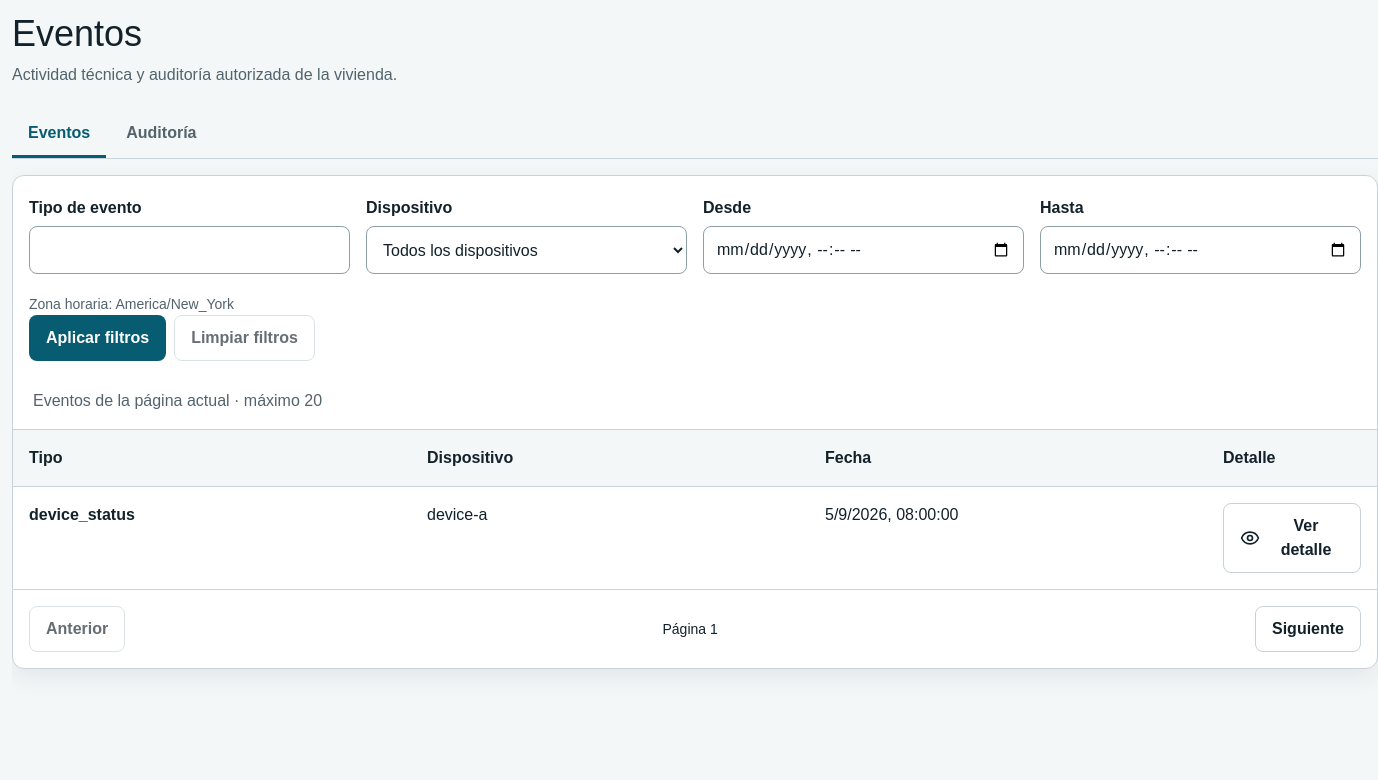
Test: Eventos y auditoría › keeps an invalid daylight-saving boundary in the filter for correction
This screenshot has width=1378, height=780.
Expected: the column heading "device_status" is shown, [13,487,411,589]
Type "2026-03-08T02:30" into the field labelled "Desde" at (864,250), box [703,226,1024,274]
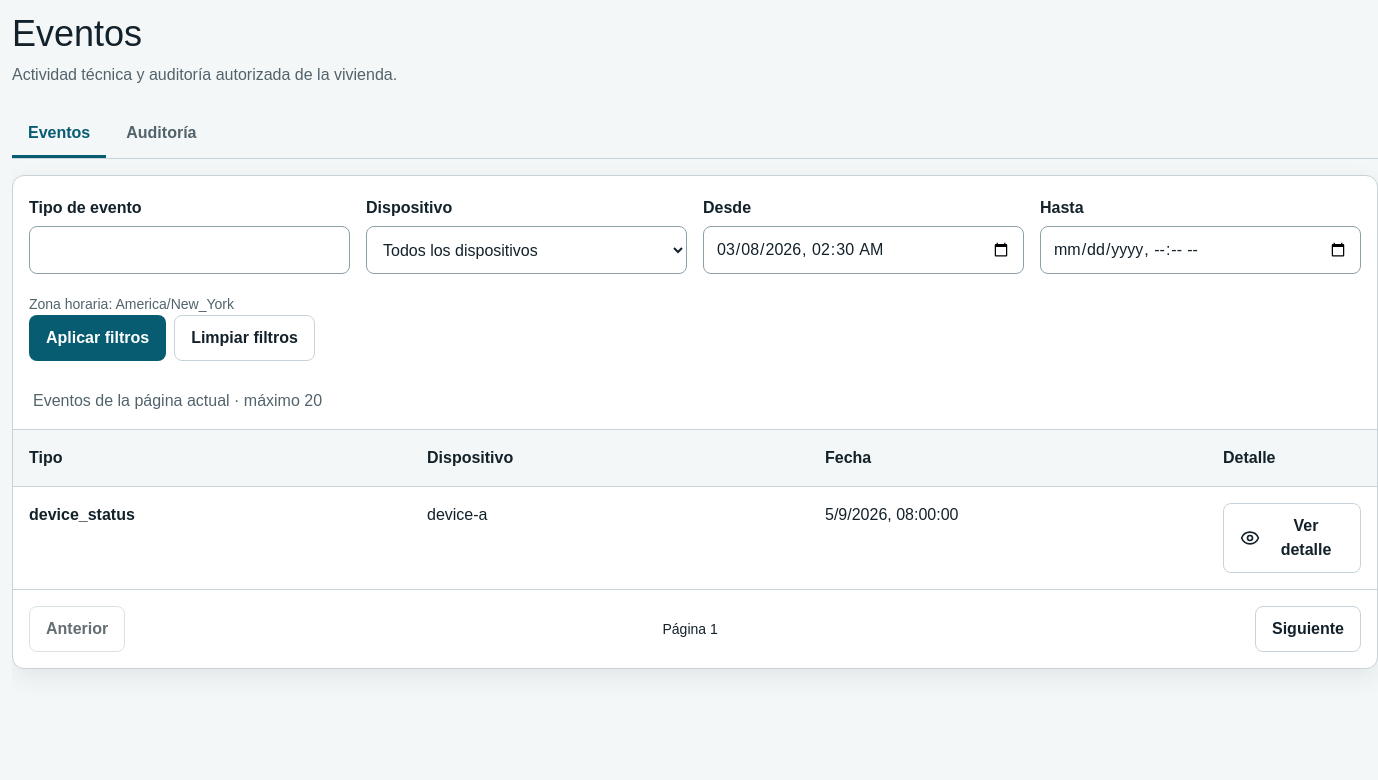
Click the button "Aplicar filtros" at (98,338), box [29,315,166,361]
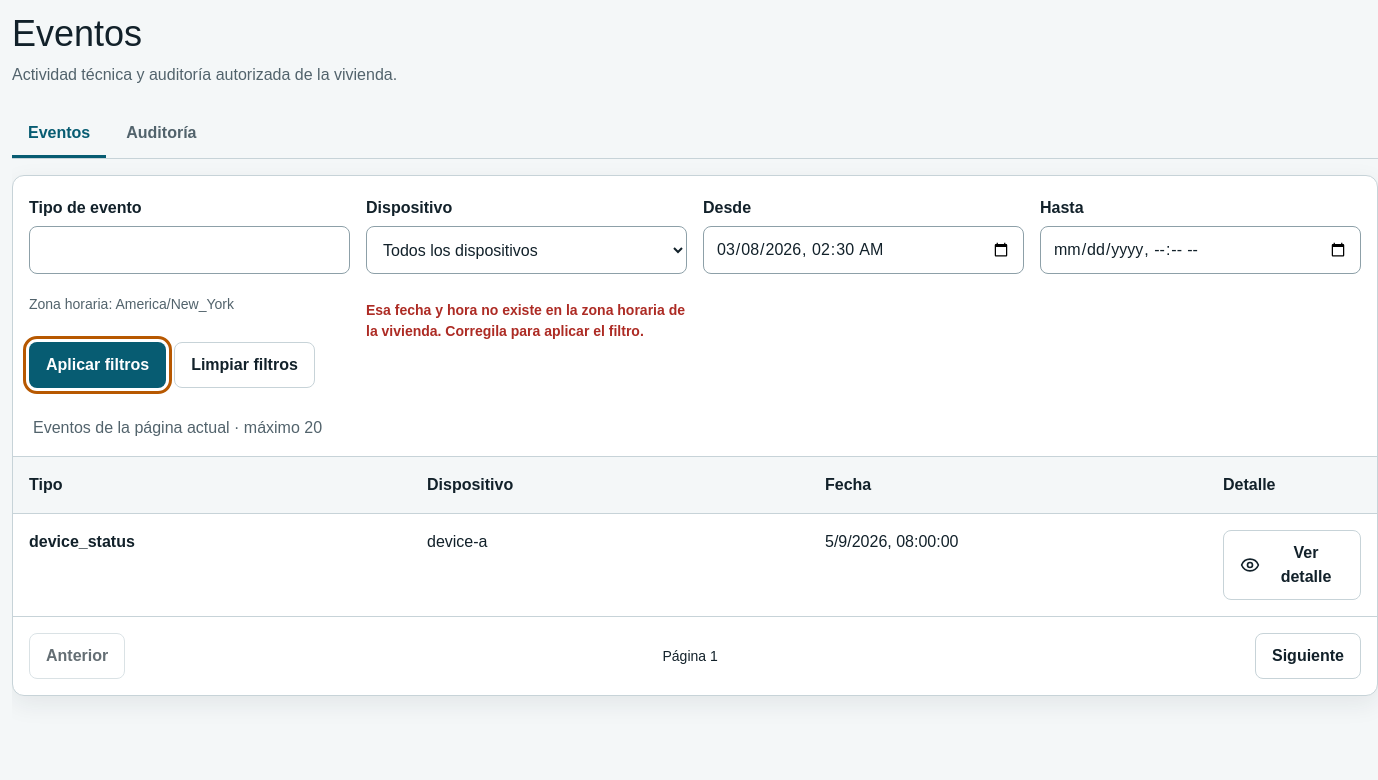
Expected: the message shows "no existe en la zona horaria", [366,302,685,339]
